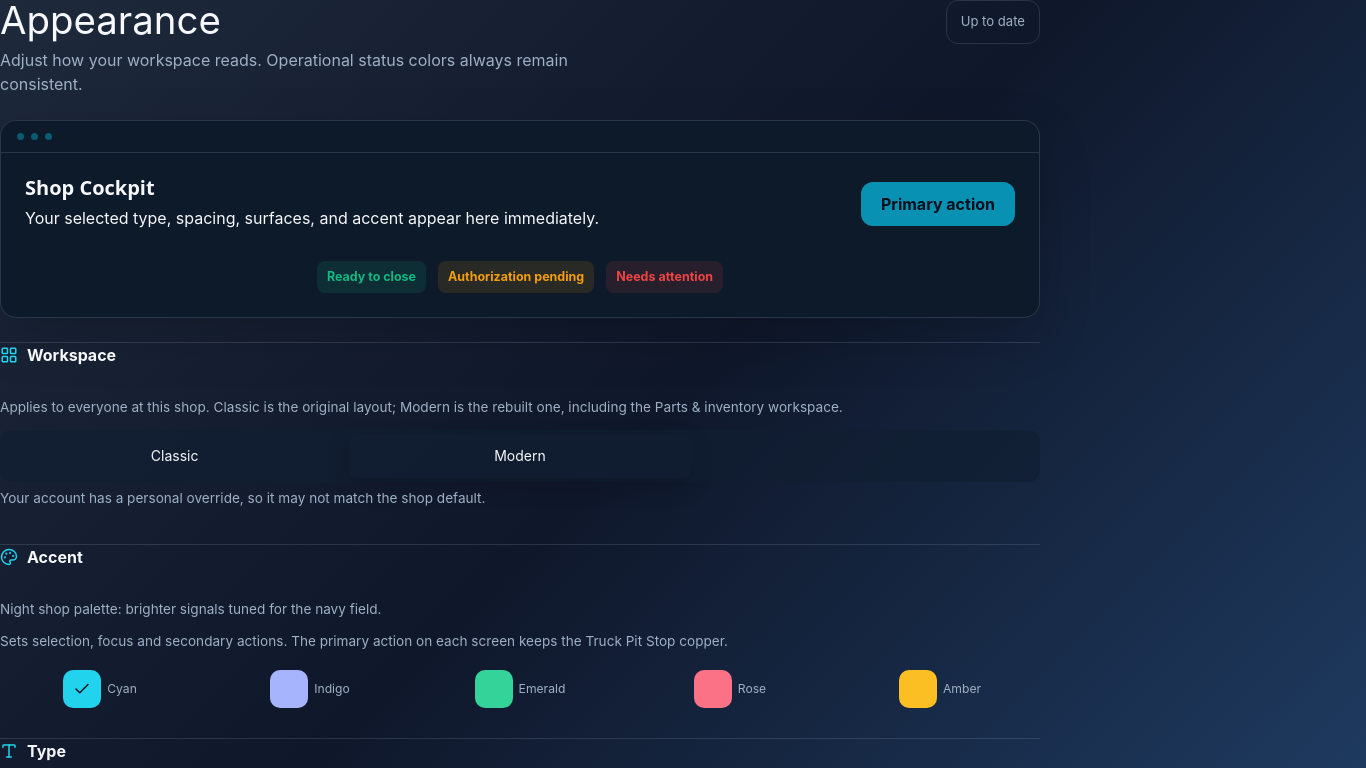
keeps appearance changes reversible and exposes semantic preview states
Click the button "Rose" at (730, 689), box [630,664,830,714]
(page scrolled)
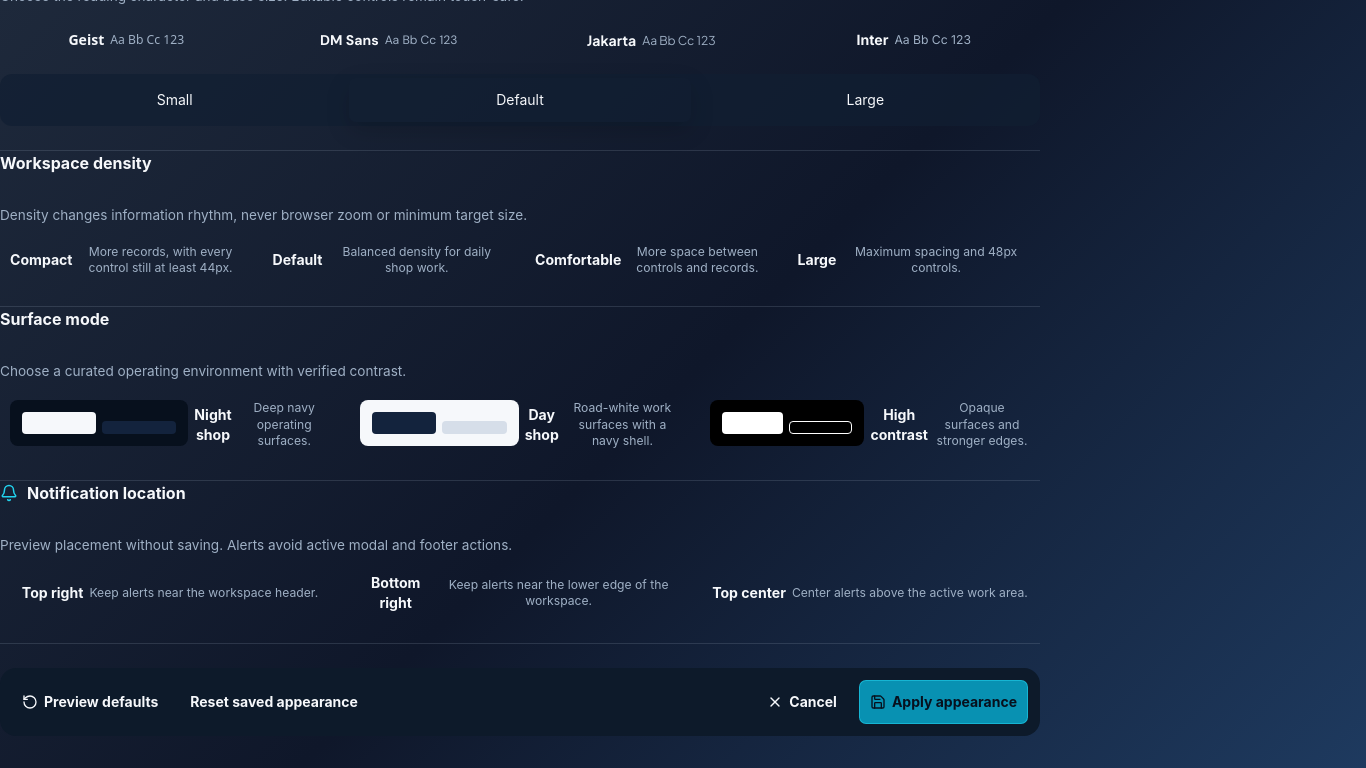
Click the button "Cancel" at (802, 702), box [757,680,847,724]
(page scrolled)
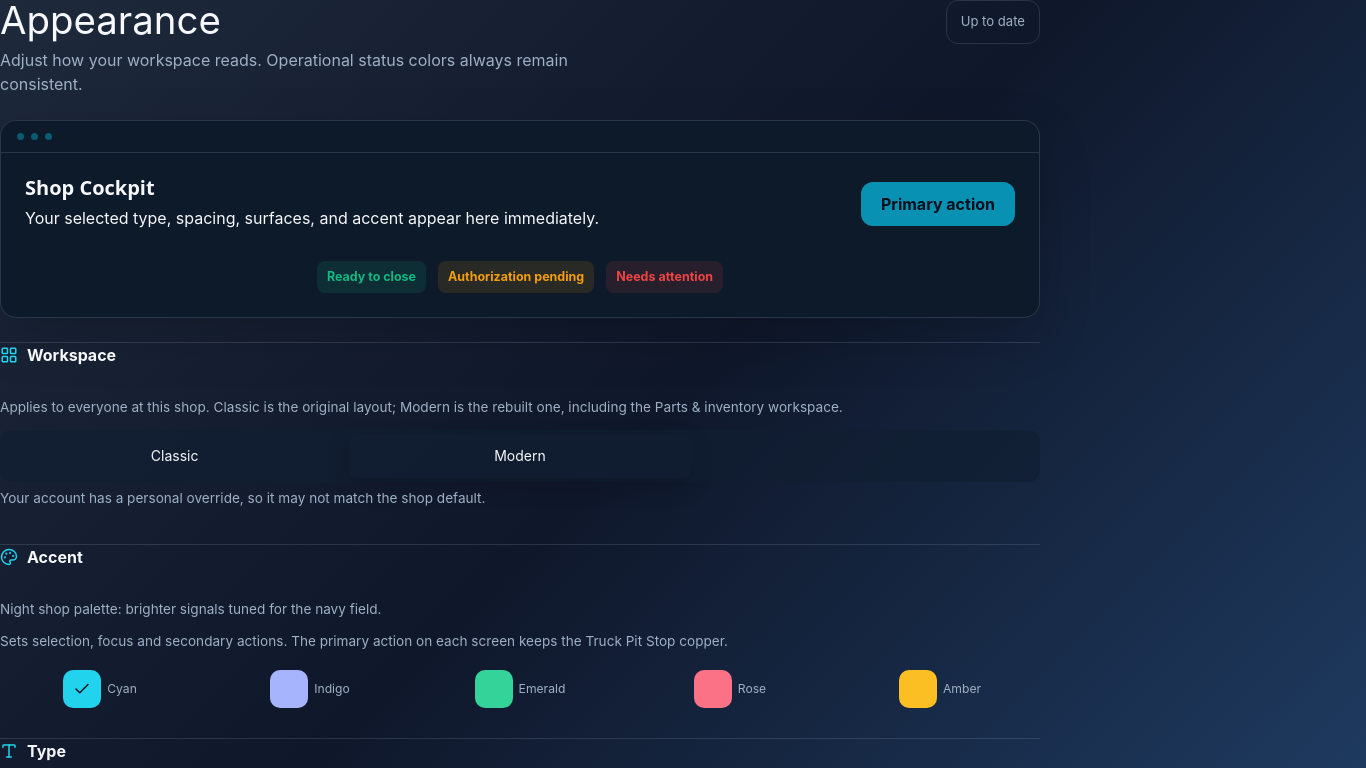
Expected: the message reads "Up to date", [961,13,1025,29]
